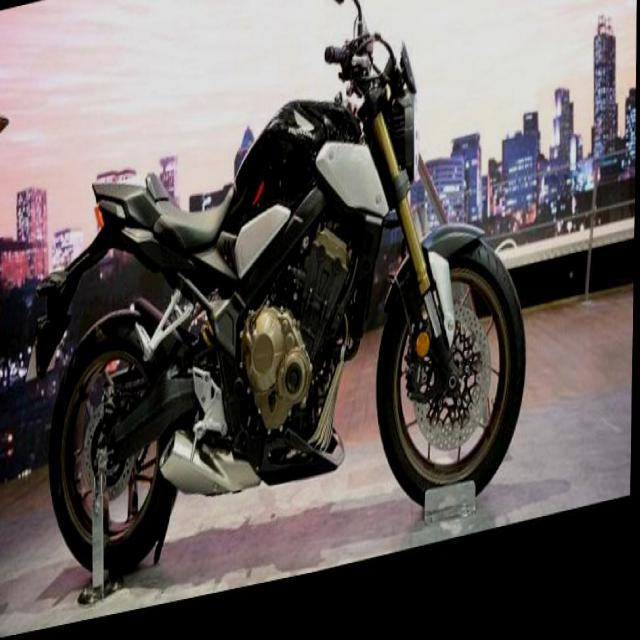CB650R: (43, 7, 534, 613)
